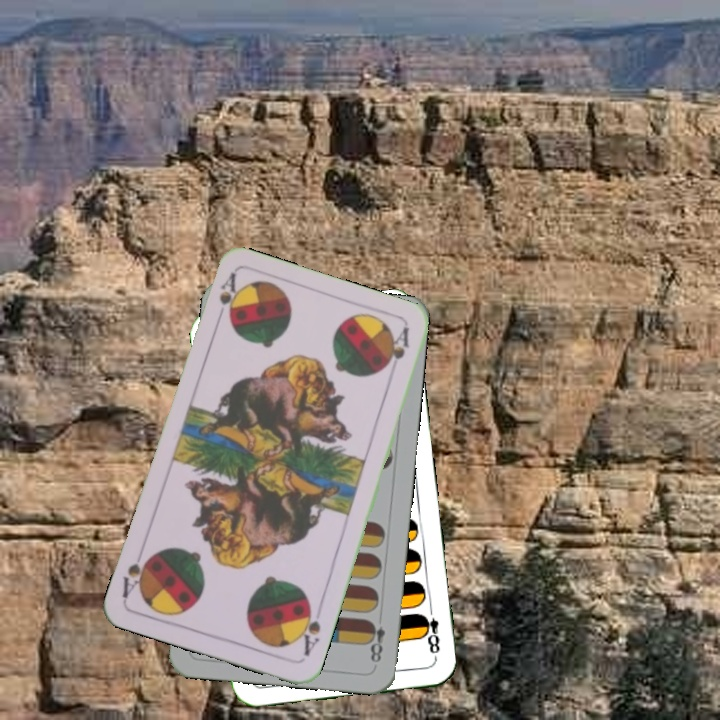E8: (417, 602, 443, 661), (363, 617, 388, 665)
SA: (293, 600, 325, 659), (211, 269, 239, 327)
